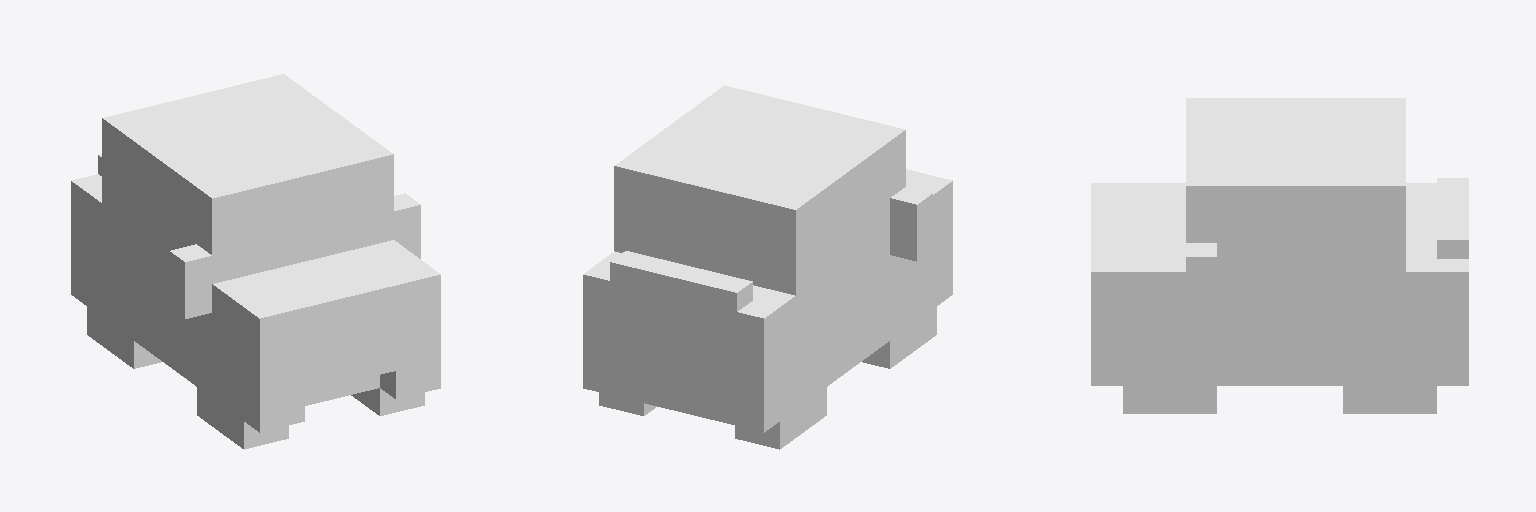
Rendered from scar.obj.
3 renders of one model, left to right at view 1: azimuth 30°, elevation 25°; view 2: azimuth 150°, elevation 25°; view 3: azimuth 270°, elevation 25°, orthographic.
Visible parts, largest first — view 1: object 1; view 2: object 1; view 3: object 1.
Part boxes in pixels (x1,y1,x2,y2): object 1: (71, 74, 440, 449); object 1: (583, 85, 952, 449); object 1: (1091, 98, 1468, 413).
Size of the model in its own units: 2.6 by 2.4 by 3.6.